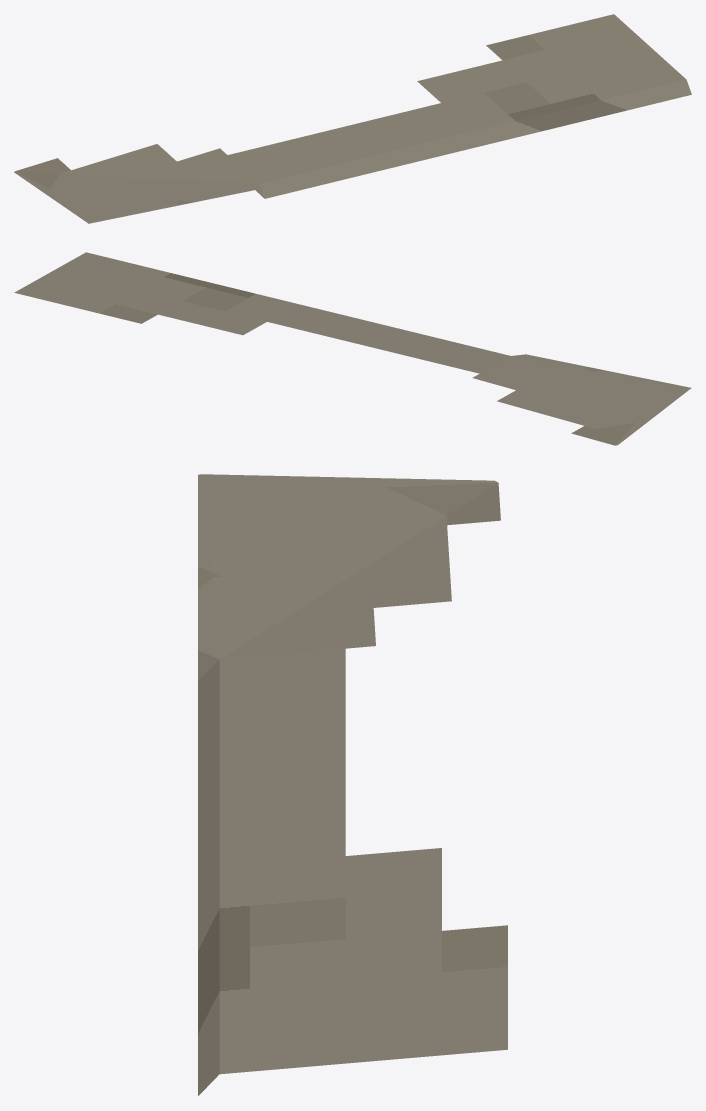
3 renders of one model, top to bottom at view 1: azimuth 30°, elevation 25°; view 2: azimuth 150°, elevation 25°; view 3: azimuth 270°, elevation 25°, orthographic. The views are drawn at different scales.
Bounding box in the file's own units: 1 × 0.0373 × 0.2236.
Materials: 1 (1 with a texture image).
